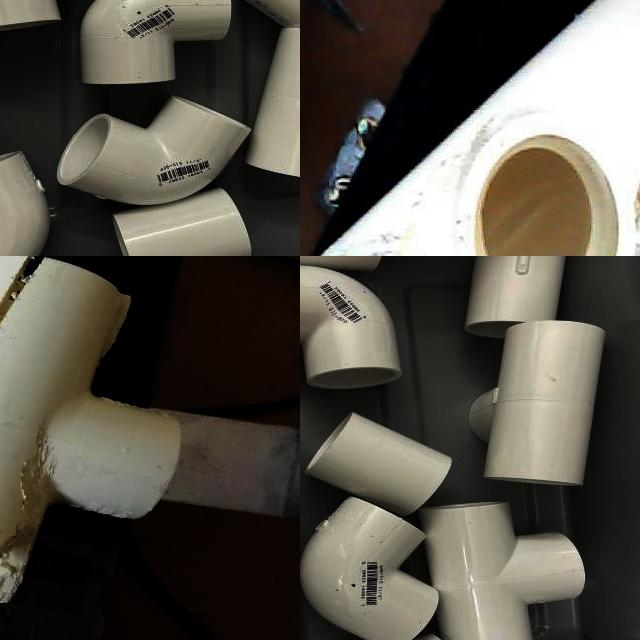Defective: (0, 430, 56, 607), (0, 258, 53, 340)
L Joint: (56, 97, 250, 205), (306, 497, 441, 640), (81, 0, 236, 90), (300, 265, 402, 391), (0, 151, 54, 256)
T Joint: (422, 502, 587, 640), (251, 27, 300, 178)
